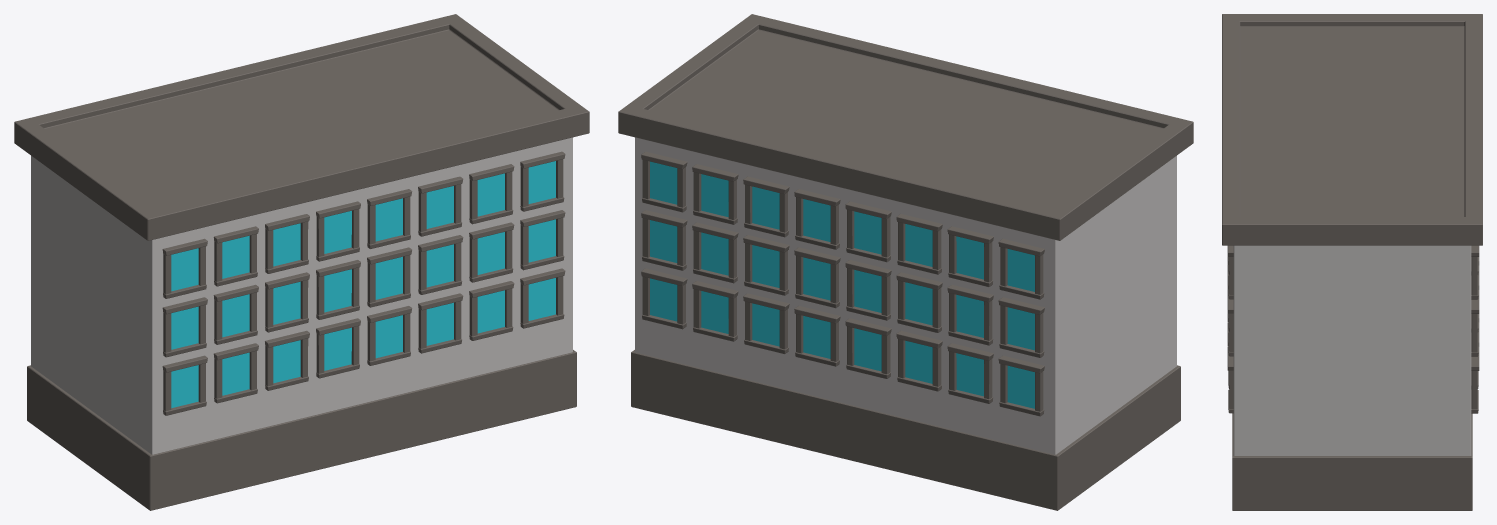
The model's file is Building2.glb.
The picture shows the model from 3 angles, left to right: view 1: azimuth 30°, elevation 25°; view 2: azimuth 150°, elevation 25°; view 3: azimuth 270°, elevation 25°; orthographic projection. The views are drawn at different scales.
Visible parts, largest first — view 1: Building2; view 2: Building2; view 3: Building2.
Part boxes in pixels (<box>): Building2: <box>14,14,589,510</box>; Building2: <box>618,14,1193,510</box>; Building2: <box>1222,14,1482,510</box>.
Bounding box in the file's own units: 8.4 × 5.4 × 4.4.
Materials: 1 (1 with a texture image).
